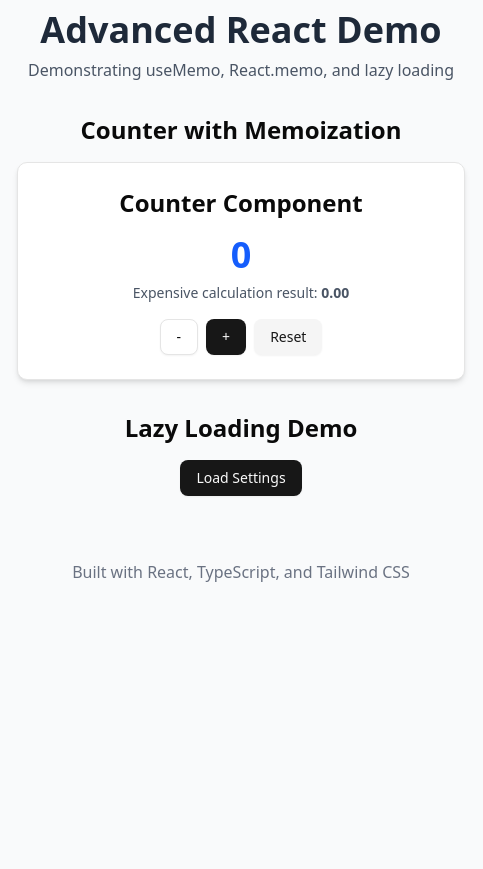
App Component › should show lazy-loaded component when settings button is clicked
This screenshot has width=483, height=869.
Click the button with test id "settings-button" at (241, 478), box [180,460,302,496]
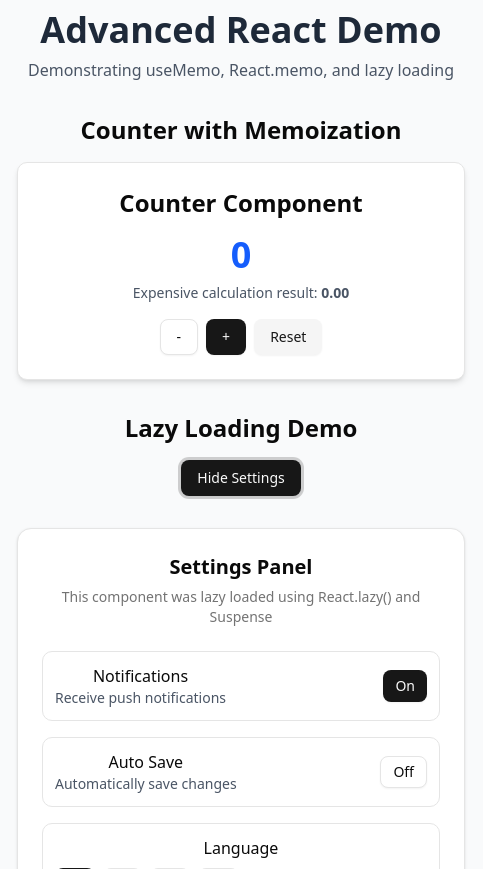
expect the text "Settings Panel" is shown: met, box [170,553,312,580]
expect the text "This component was lazy loaded using React.lazy() and Suspense" is shown: met, box [42,587,440,627]
expect the button with test id "settings-button" reads "Hide Settings": met, box [181,460,301,496]
